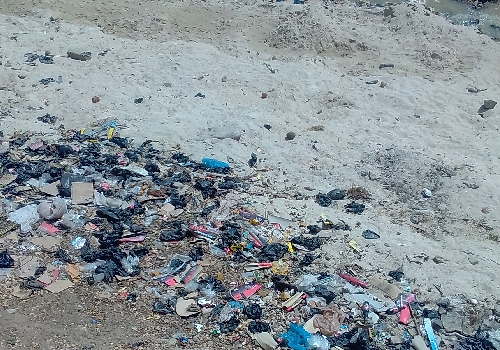trash: (8, 119, 476, 346)
